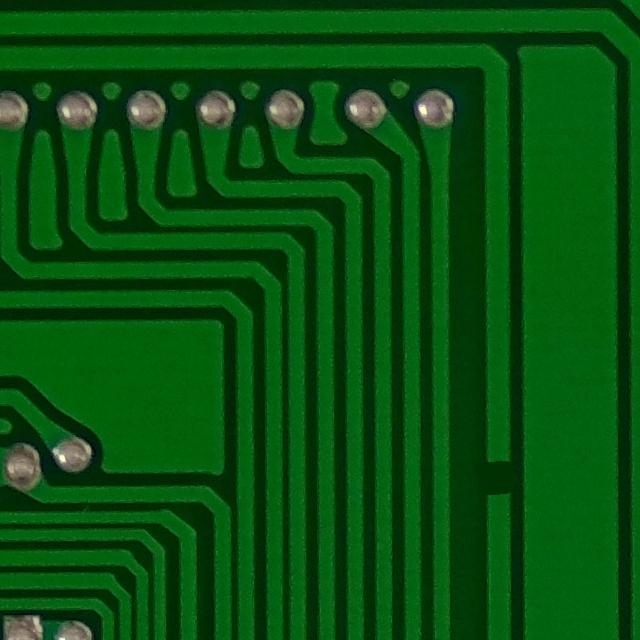open_circuit: (479, 443, 522, 513)
